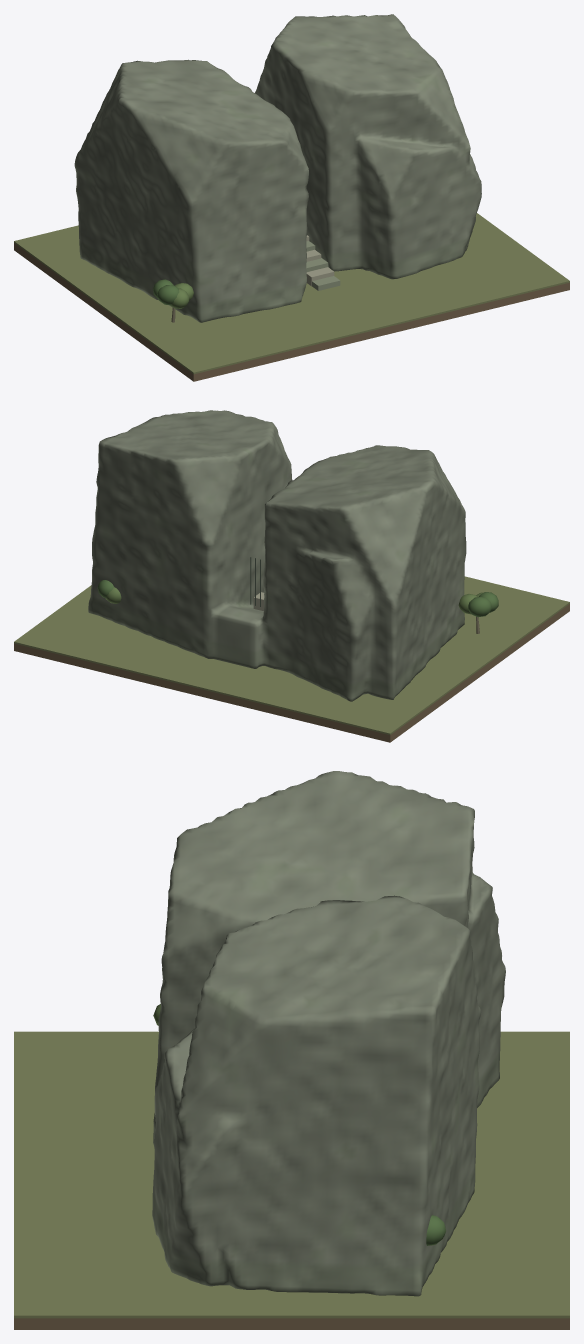
The model's file is gms-50.glb.
The picture shows the model from 3 angles, top to bottom: view 1: azimuth 30°, elevation 25°; view 2: azimuth 150°, elevation 25°; view 3: azimuth 270°, elevation 25°; orthographic projection. The views are drawn at different scales.
Parts seen in each view (by area): view 1: GMS-50 - estudio del paisaje; view 2: GMS-50 - estudio del paisaje; view 3: GMS-50 - estudio del paisaje.
Part boxes in pixels (x1,y1,x2,y2): GMS-50 - estudio del paisaje: (14,14,569,381); GMS-50 - estudio del paisaje: (14,410,569,742); GMS-50 - estudio del paisaje: (14,771,569,1329).
Size of the model in its own units: 11.6 by 5.83 by 9.6.
